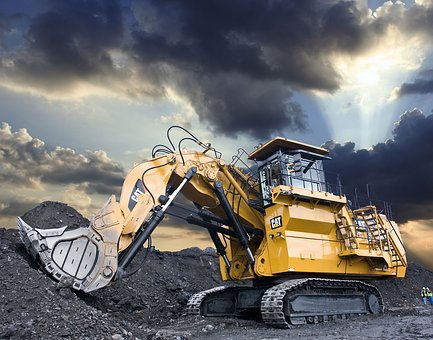excavator: (16, 123, 412, 330)
